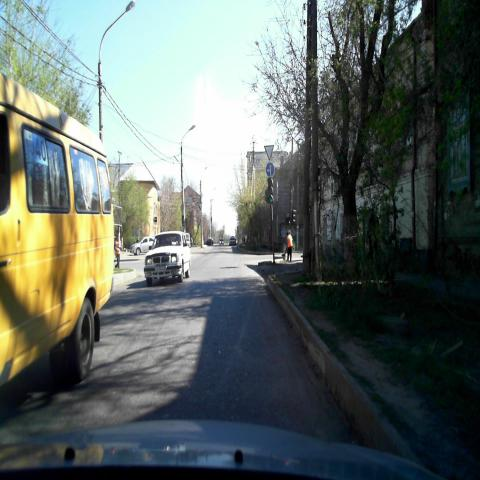2_4: (264, 145, 275, 161)
4_1_5: (265, 161, 275, 178)
